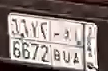2: (39, 21, 50, 64)
6: (10, 15, 22, 60), (20, 18, 31, 61)
7: (29, 19, 40, 61)
A: (72, 27, 82, 67)
B: (52, 27, 62, 65)
U: (62, 26, 73, 65)
